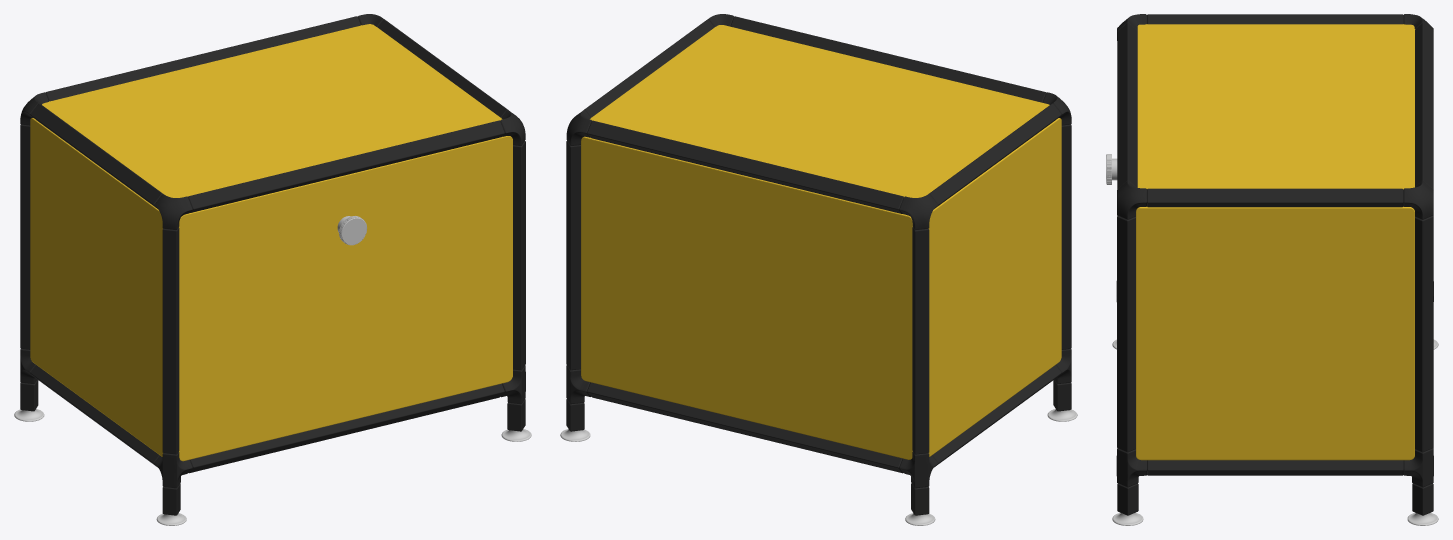
3 renders of one model, left to right at view 1: azimuth 30°, elevation 25°; view 2: azimuth 150°, elevation 25°; view 3: azimuth 270°, elevation 25°, orthographic. The views are drawn at different scales.
Parts seen in each view (by area): view 1: 479x329x329; view 2: 479x329x329; view 3: 479x329x329.
Part boxes in pixels (x1,y1,x2,y2): 479x329x329: (14, 14, 531, 525); 479x329x329: (560, 14, 1077, 525); 479x329x329: (1106, 14, 1438, 525).
Bounding box in the file's own units: 0.5689 × 0.4683 × 0.4258.
